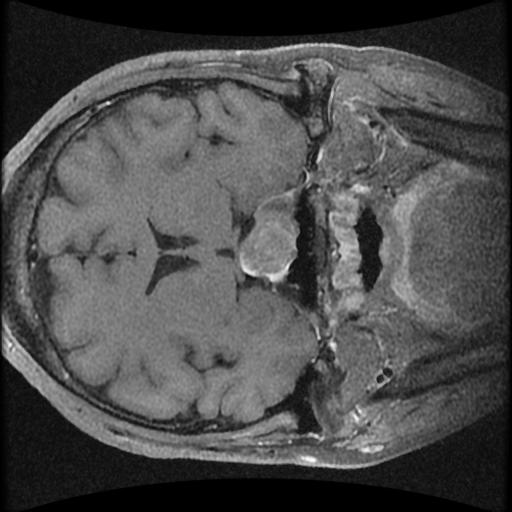pituitary tumour: (238, 194, 300, 283)
